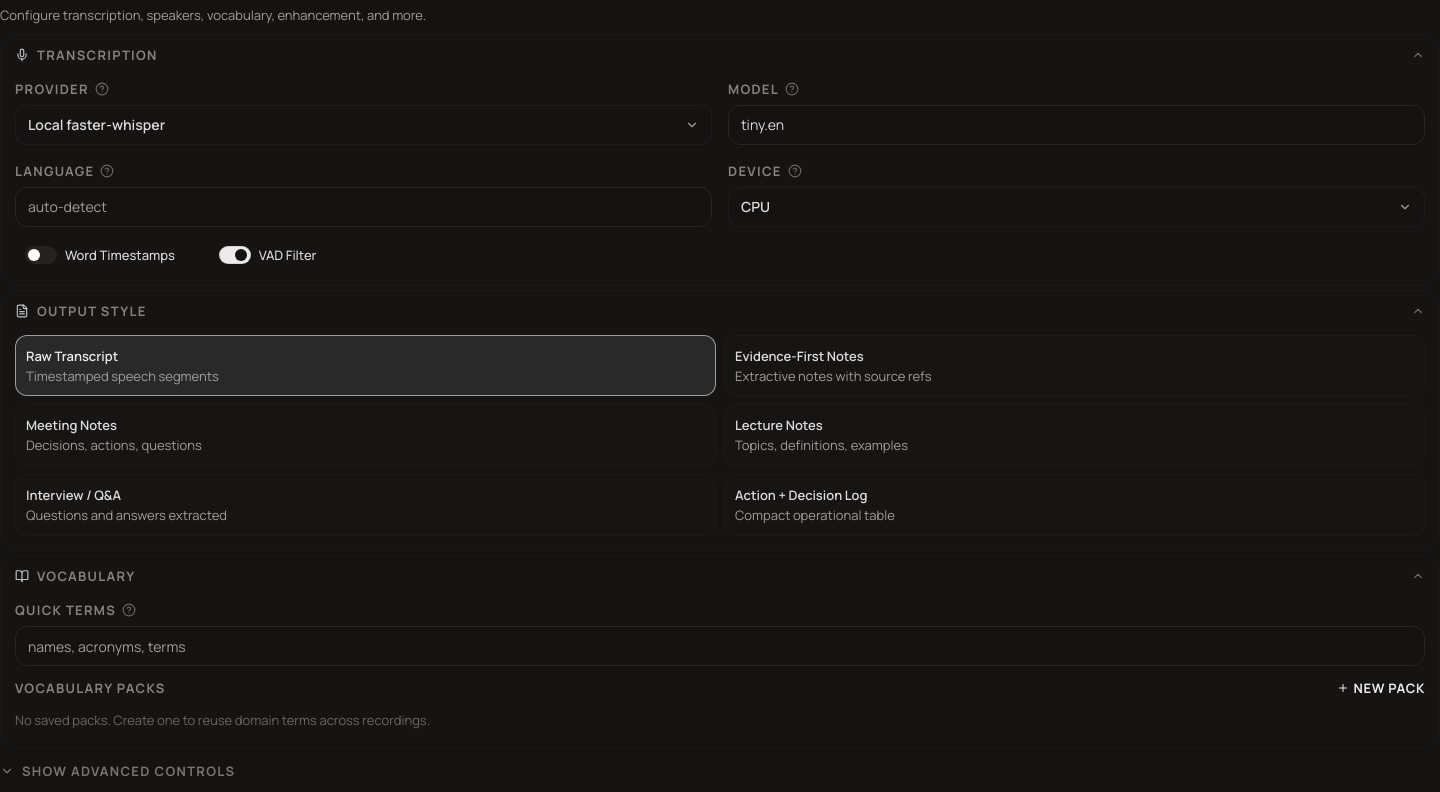
Test case: AudioAdvancedSettings › disables provider comparison because the benchmark runner is not shipped
Click the button "Show Advanced Controls": [129, 771] box x1=0 y1=753 x2=1439 y2=789
(page scrolled)
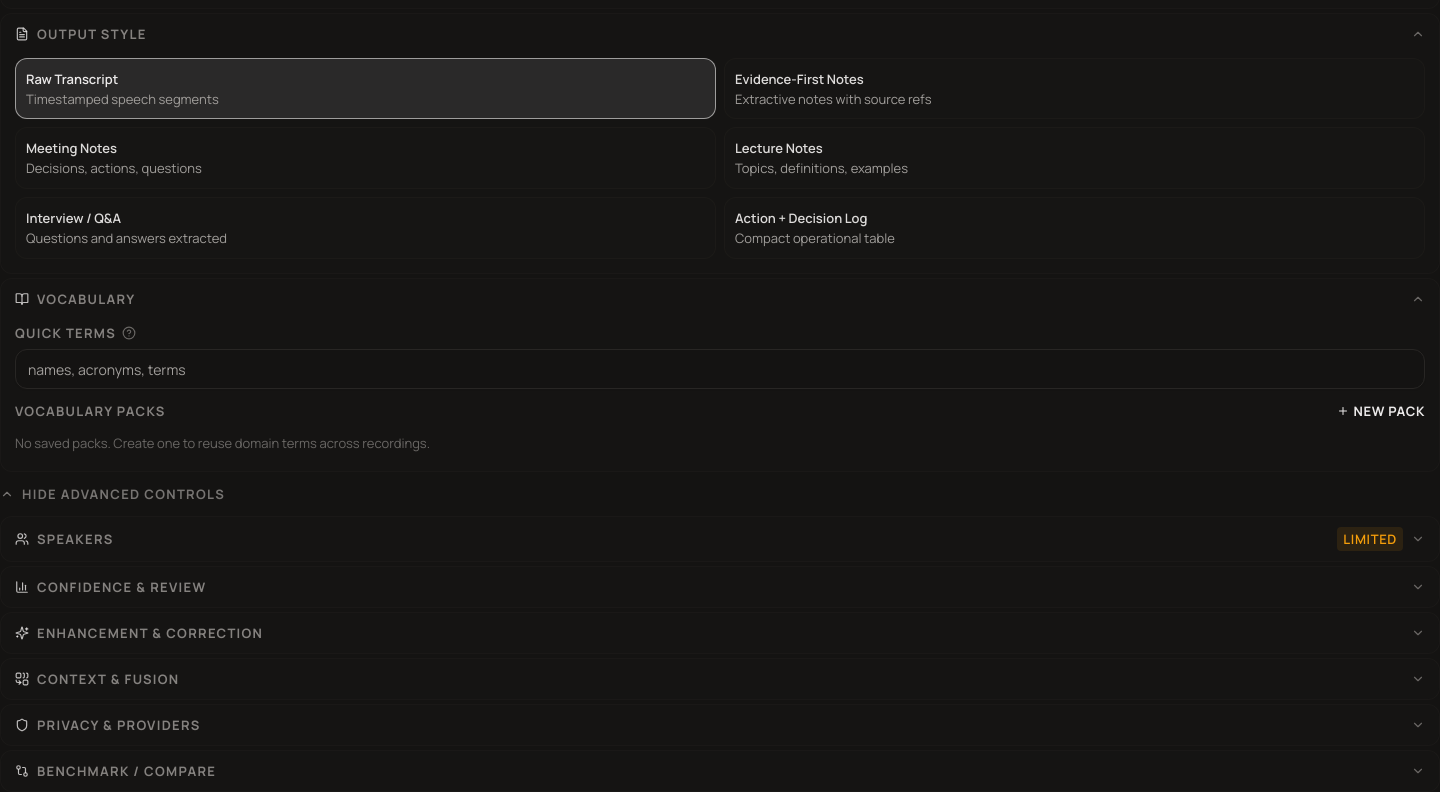
Click the button "Benchmark / Compare": [127, 771] box x1=1 y1=751 x2=1439 y2=791
(page scrolled)
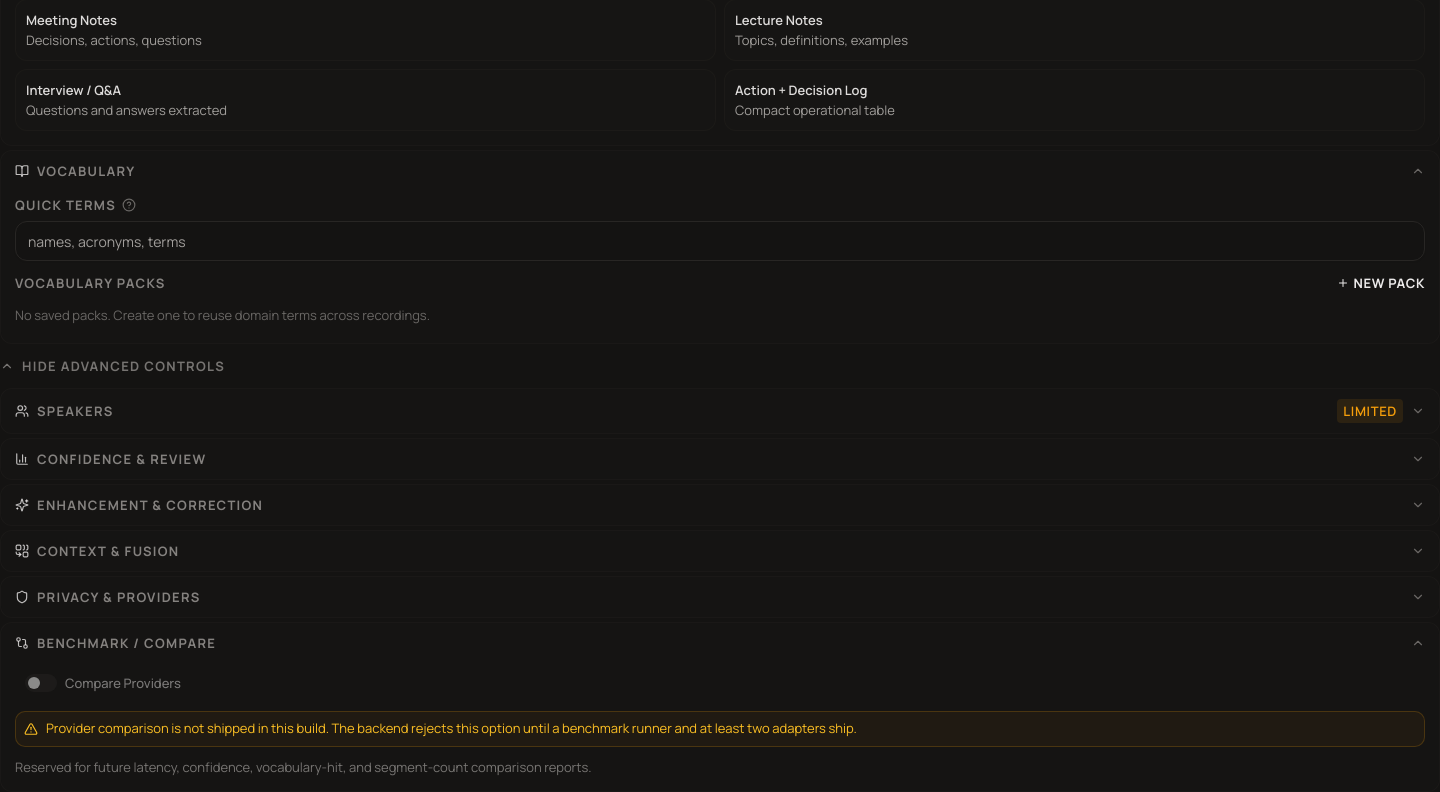
Now the button "Compare Providers" is disabled, box x1=15 y1=667 x2=191 y2=699
Now the text "Provider comparison is not shipped" is shown, box x1=46 y1=719 x2=857 y2=737
